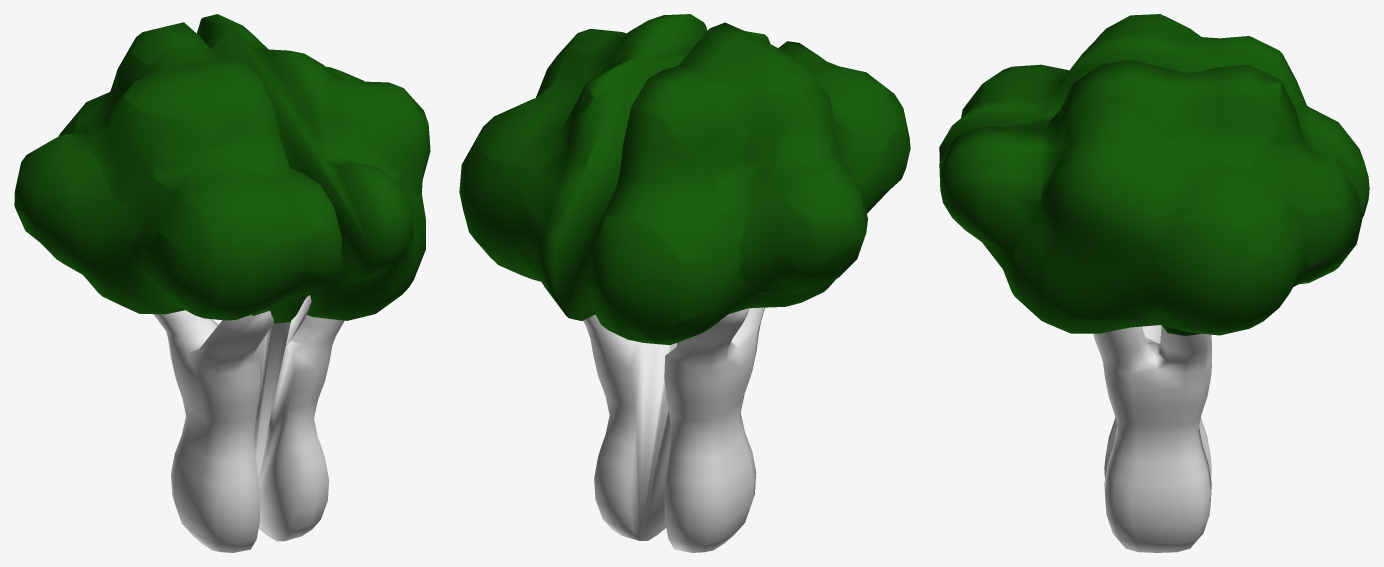
Rendered from broccoli.fbx.
3 renders of one model, left to right at view 1: azimuth 30°, elevation 25°; view 2: azimuth 150°, elevation 25°; view 3: azimuth 270°, elevation 25°, orthographic. The views are drawn at different scales.
Visible parts, largest first — view 1: МСфера.011, МСфера.001; view 2: МСфера.011, МСфера.001; view 3: МСфера.001, МСфера.011.
Boxes of the visible parts, x1=… form: МСфера.011: x1=14, y1=22, x2=341, y2=552; МСфера.001: x1=197, y1=14, x2=430, y2=541; МСфера.011: x1=588, y1=22, x2=910, y2=552; МСфера.001: x1=459, y1=14, x2=770, y2=540; МСфера.001: x1=939, y1=59, x2=1362, y2=552; МСфера.011: x1=939, y1=14, x2=1369, y2=479.
Bounding box in the file's own units: 242 × 304 × 245.
